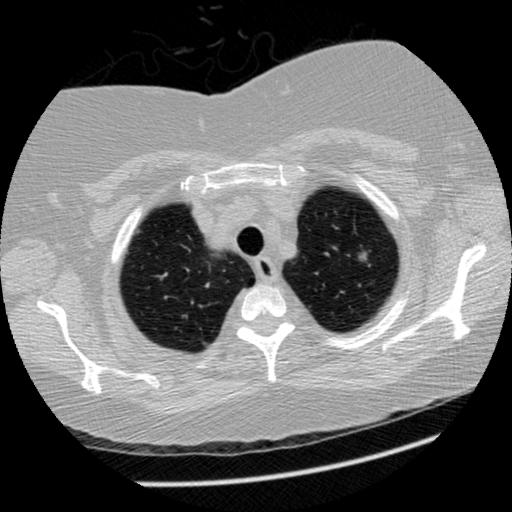nodule: (354, 248, 371, 265)
